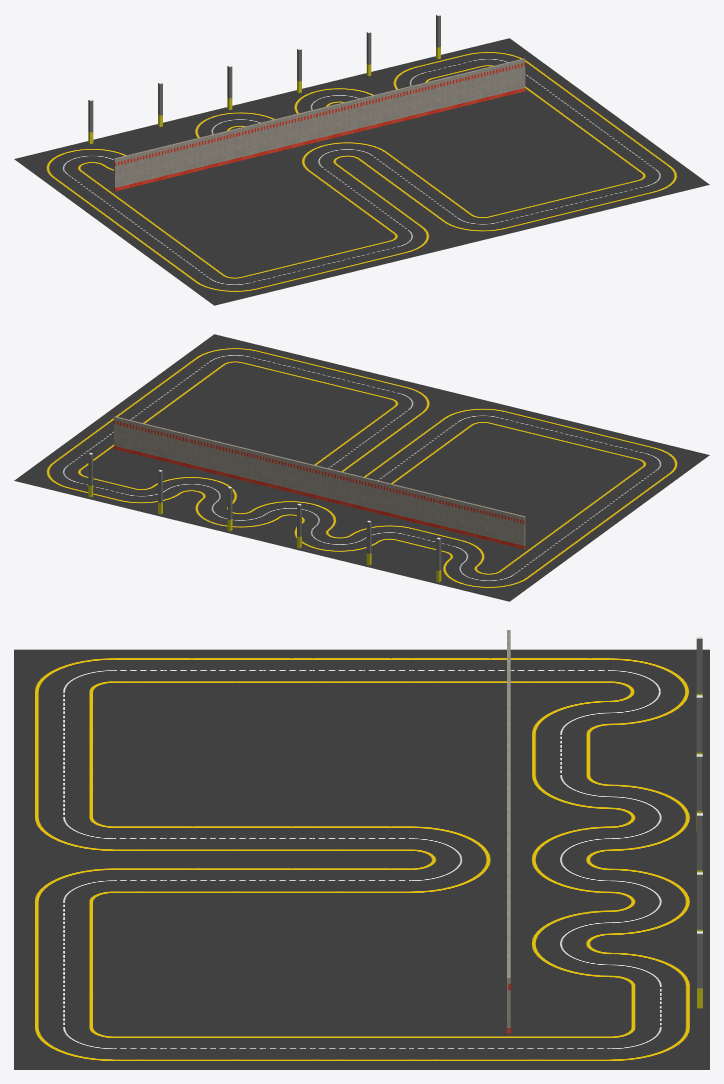
The model's file is tunnel.dae.
The picture shows the model from 3 angles, top to bottom: view 1: azimuth 30°, elevation 25°; view 2: azimuth 150°, elevation 25°; view 3: azimuth 270°, elevation 25°; orthographic projection. The views are drawn at different scales.
Visible parts, largest first — view 1: Plane, Wall; view 2: Plane, Wall; view 3: Plane, Wall.
Part boxes in pixels (x1,y1,x2,y2): Plane: [14, 38, 709, 305]; Wall: [114, 58, 525, 191]; Plane: [14, 334, 709, 601]; Wall: [114, 416, 525, 549]; Plane: [14, 649, 709, 1069]; Wall: [507, 630, 510, 1033].
Bounding box in the file's own units: 40 × 28 × 3.34.
5 materials, 4 textured.
